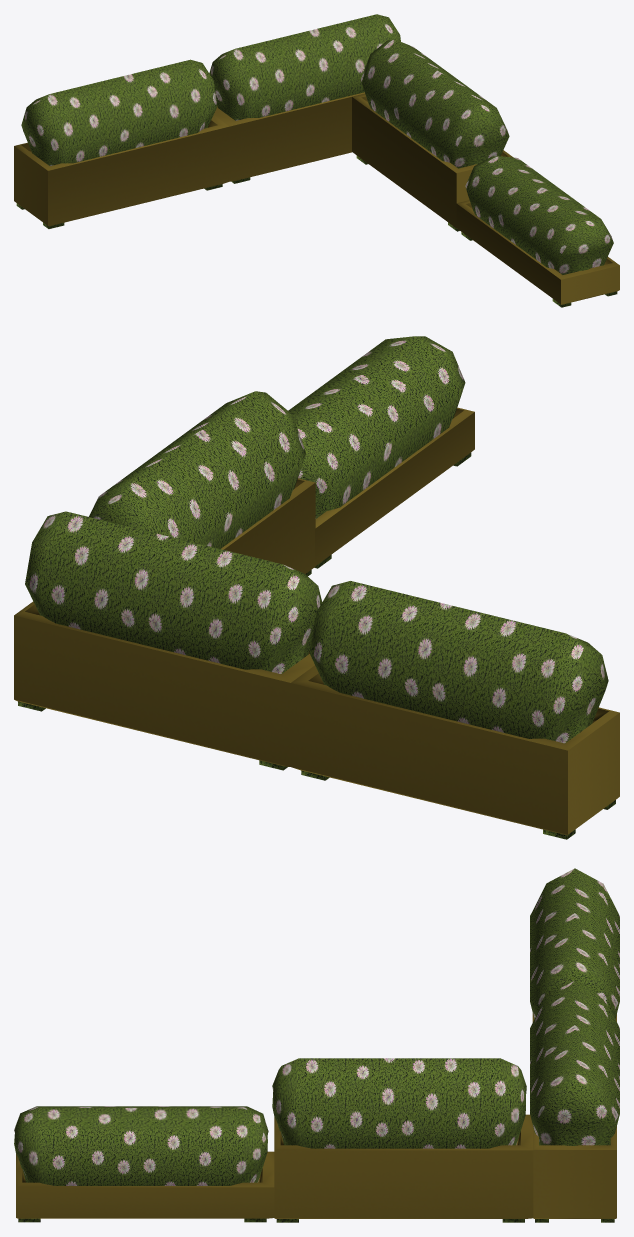
Rendered from VEG0410008.fbx.
The picture shows the model from 3 angles, top to bottom: view 1: azimuth 30°, elevation 25°; view 2: azimuth 150°, elevation 25°; view 3: azimuth 270°, elevation 25°; orthographic projection. The views are drawn at different scales.
Visible parts, largest first — view 1: smVEG0410008; view 2: smVEG0410008; view 3: smVEG0410008.
Part boxes in pixels (x1,y1,x2,y2): smVEG0410008: (14, 14, 619, 307); smVEG0410008: (14, 336, 619, 839); smVEG0410008: (14, 868, 619, 1222).
Bounding box in the file's own units: 282 × 88.02 × 328.
1 material, 1 textured.
